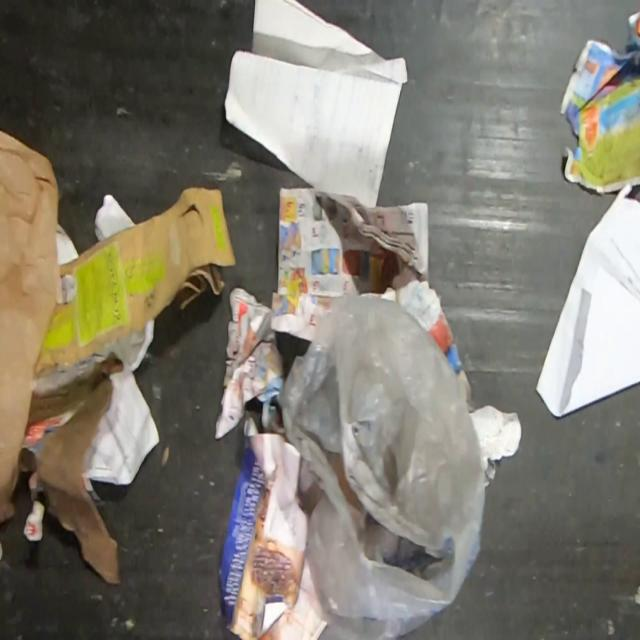cardboard: (36, 185, 236, 377), (25, 349, 124, 585)
soft_plastic: (274, 292, 486, 640), (0, 129, 60, 509)
